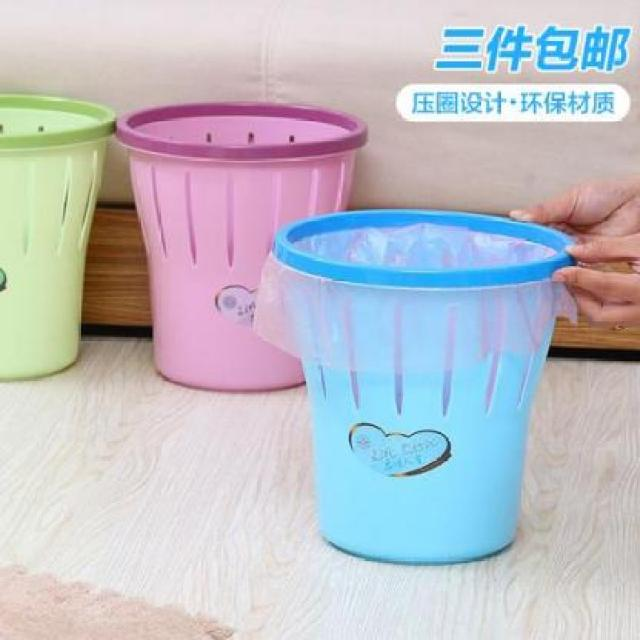dustbin: (271, 205, 585, 573), (110, 99, 372, 398), (0, 90, 119, 384)
